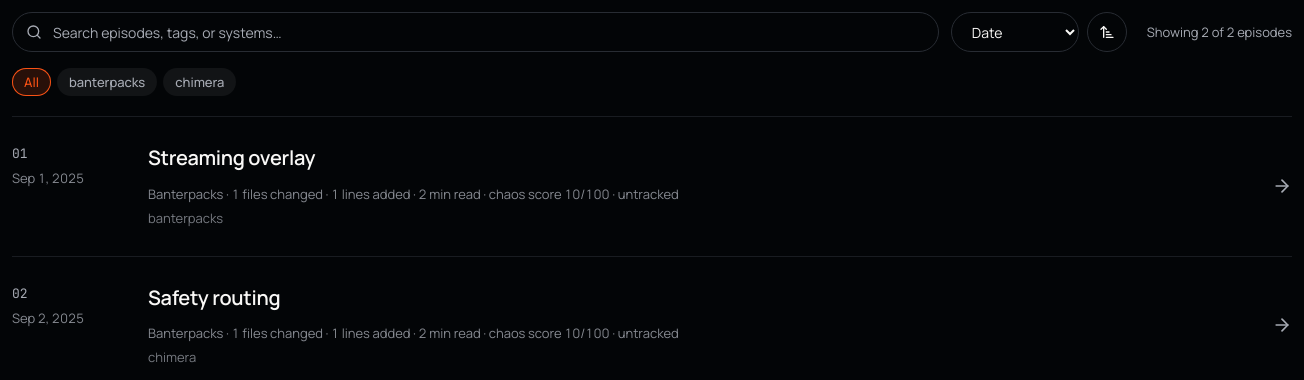
it: episode filters › offers to clear the filters when nothing matches
Click the button "chimera": (200, 82) [163,68,236,96]
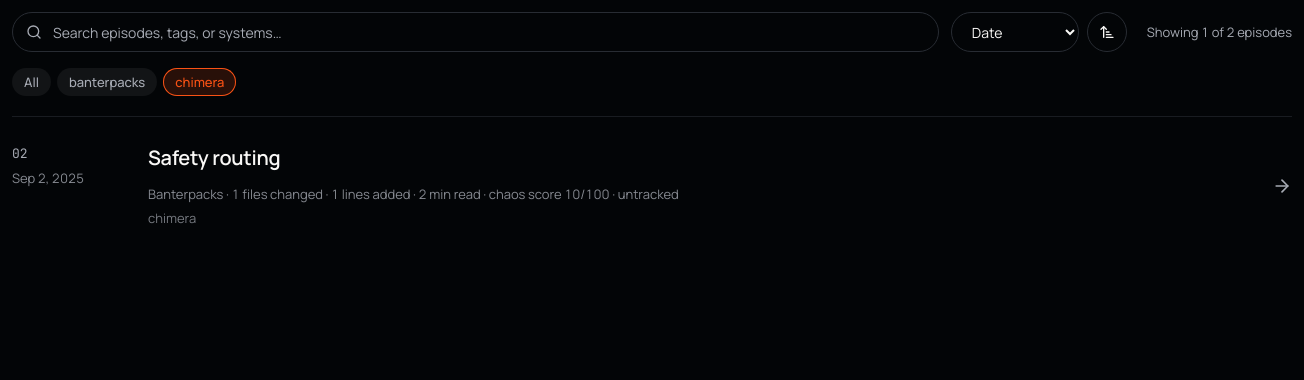
In the search field: (475, 32) [12,12,939,52], type "streaming"
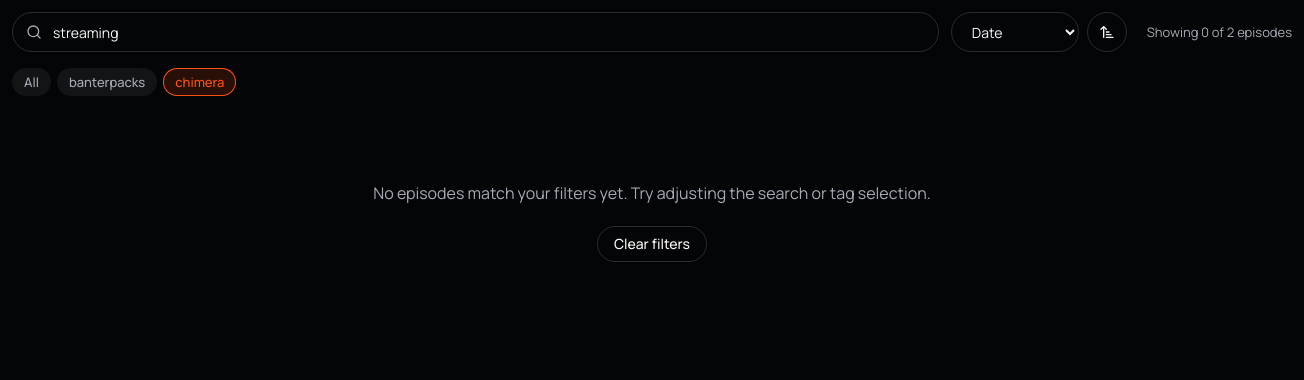
Click the button "Clear filters": (652, 244) [597,226,707,262]
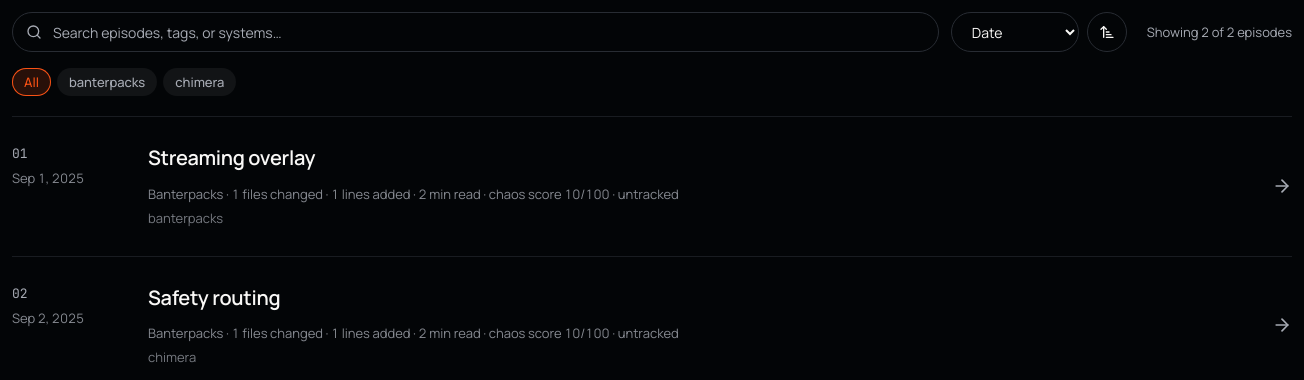
Now the search field is empty, box [12,12,939,52]
